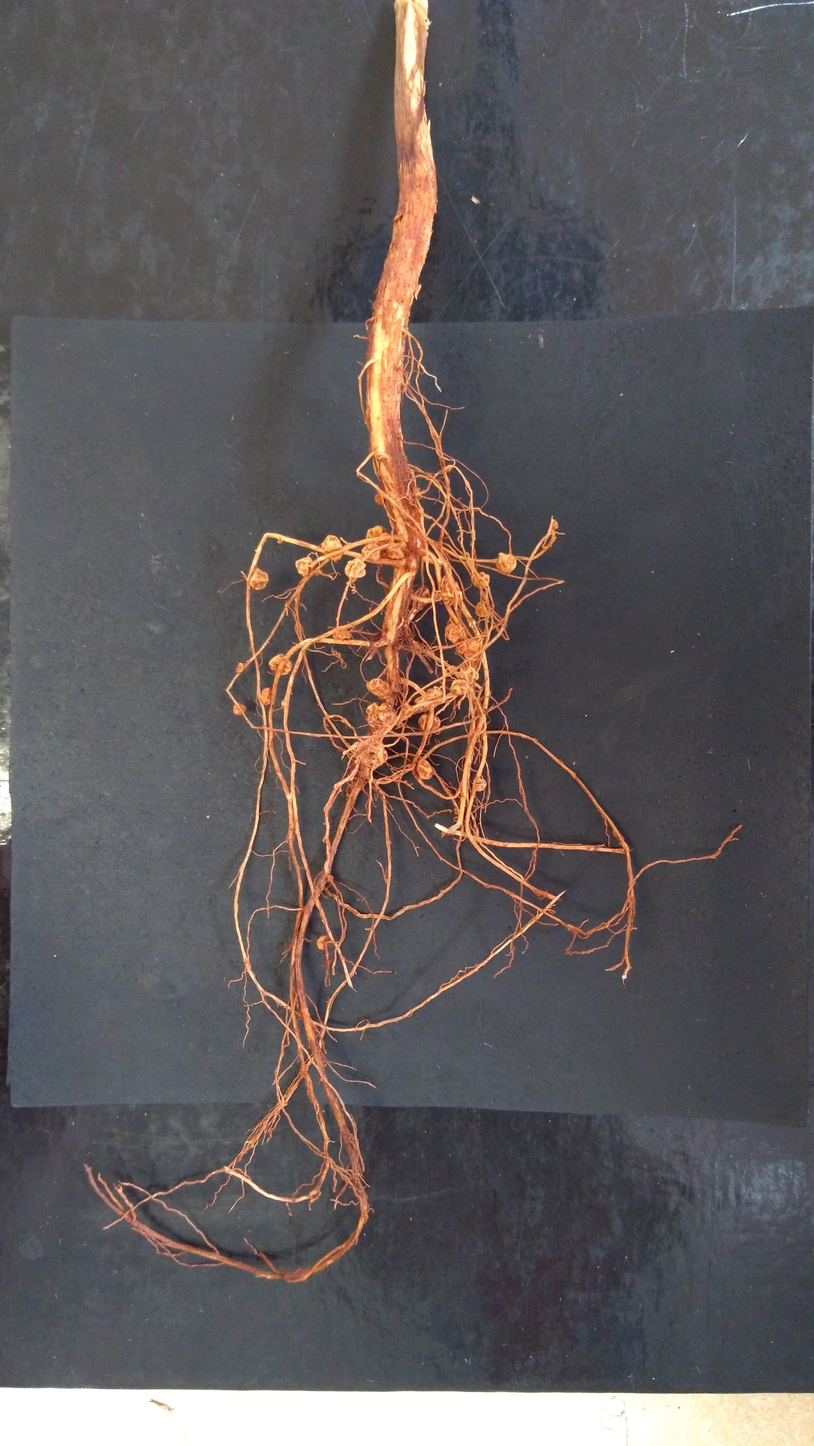nodule: (366, 702, 396, 727), (442, 575, 463, 606), (366, 741, 388, 770), (321, 535, 343, 562), (366, 678, 390, 700), (366, 525, 389, 547), (445, 622, 467, 644), (269, 654, 292, 675), (415, 688, 443, 704), (496, 553, 517, 574), (412, 586, 430, 610), (250, 568, 269, 590), (345, 558, 366, 577), (415, 758, 433, 780), (418, 714, 440, 731), (362, 543, 381, 562), (295, 556, 313, 576), (459, 666, 479, 684), (387, 542, 407, 559), (450, 680, 469, 696), (471, 572, 489, 588), (333, 626, 351, 641), (465, 640, 480, 657), (378, 533, 392, 550), (475, 601, 489, 617), (317, 935, 330, 950), (456, 637, 467, 654), (260, 688, 271, 705), (473, 778, 487, 791), (233, 703, 246, 716), (374, 493, 385, 505), (236, 663, 244, 673), (412, 487, 420, 495), (553, 520, 558, 529), (277, 537, 282, 544), (346, 792, 350, 798)
